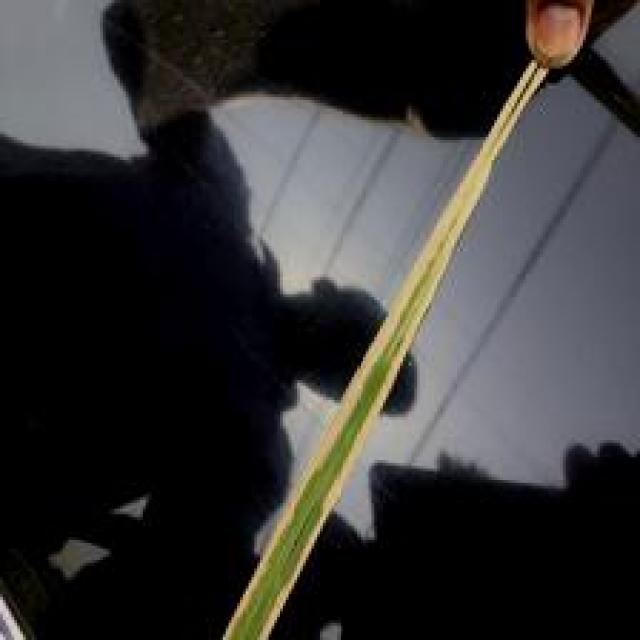Bacterial_Leaf_Blight: (283, 120, 488, 529)
